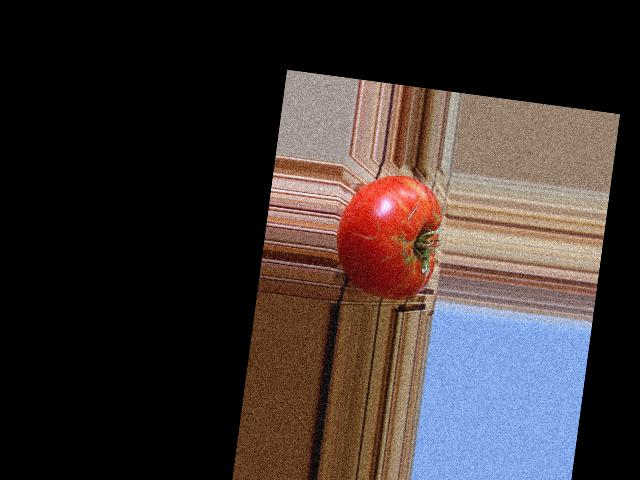tomato: (331, 168, 446, 305)
